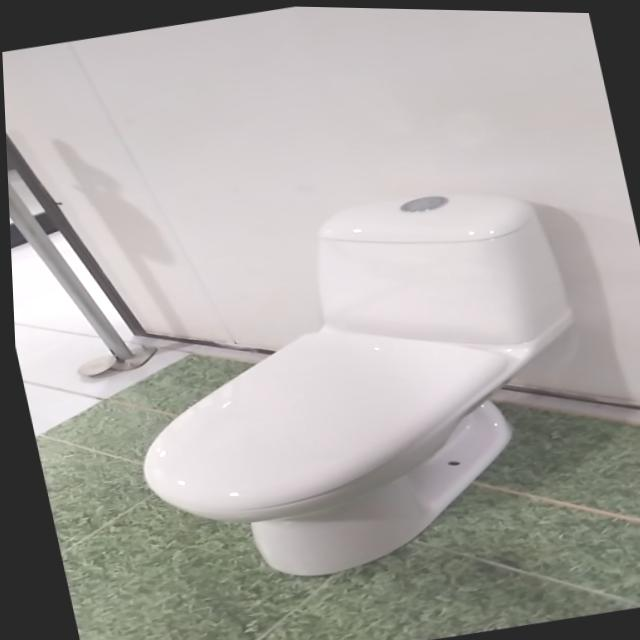toilet: (88, 163, 620, 606)
